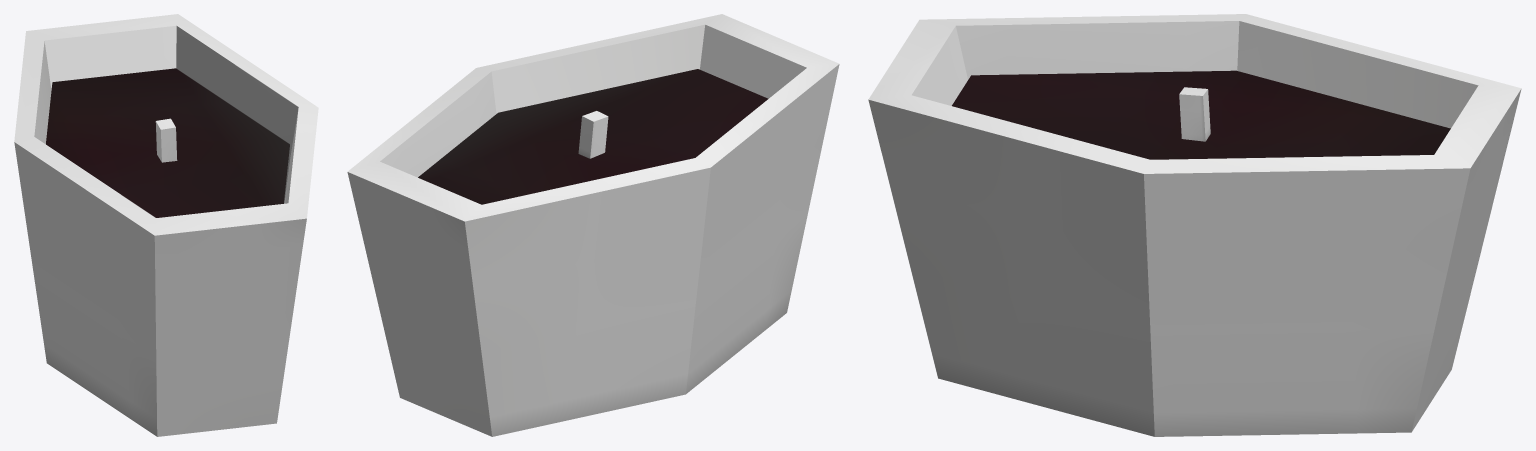
Rendered from SM_Candle_02.fbx.
3 renders of one model, left to right at view 1: azimuth 30°, elevation 25°; view 2: azimuth 150°, elevation 25°; view 3: azimuth 270°, elevation 25°, orthographic. The views are drawn at different scales.
Visible parts, largest first — view 1: SM_Candle_02; view 2: SM_Candle_02; view 3: SM_Candle_02.
Boxes of the visible parts, x1,y1,x2,y2 form: SM_Candle_02: (14, 14, 318, 436); SM_Candle_02: (347, 14, 839, 436); SM_Candle_02: (868, 14, 1521, 436).
Bounding box in the file's own units: 4.52 × 3.86 × 7.8.
